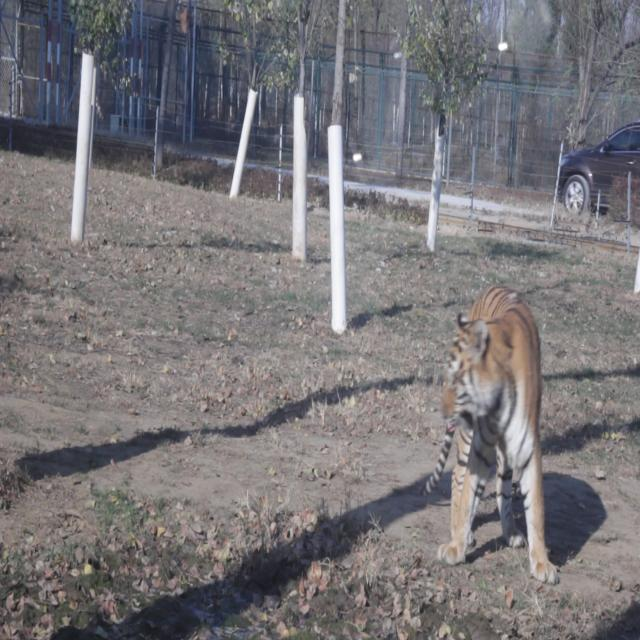Tiger: (413, 262, 574, 588)
